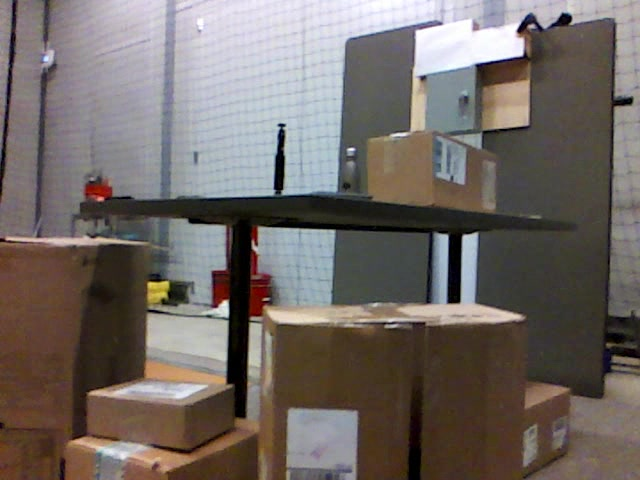box: (263, 304, 526, 480), (1, 236, 148, 480), (89, 380, 235, 453), (70, 424, 260, 480), (365, 132, 498, 211), (525, 380, 570, 478)
